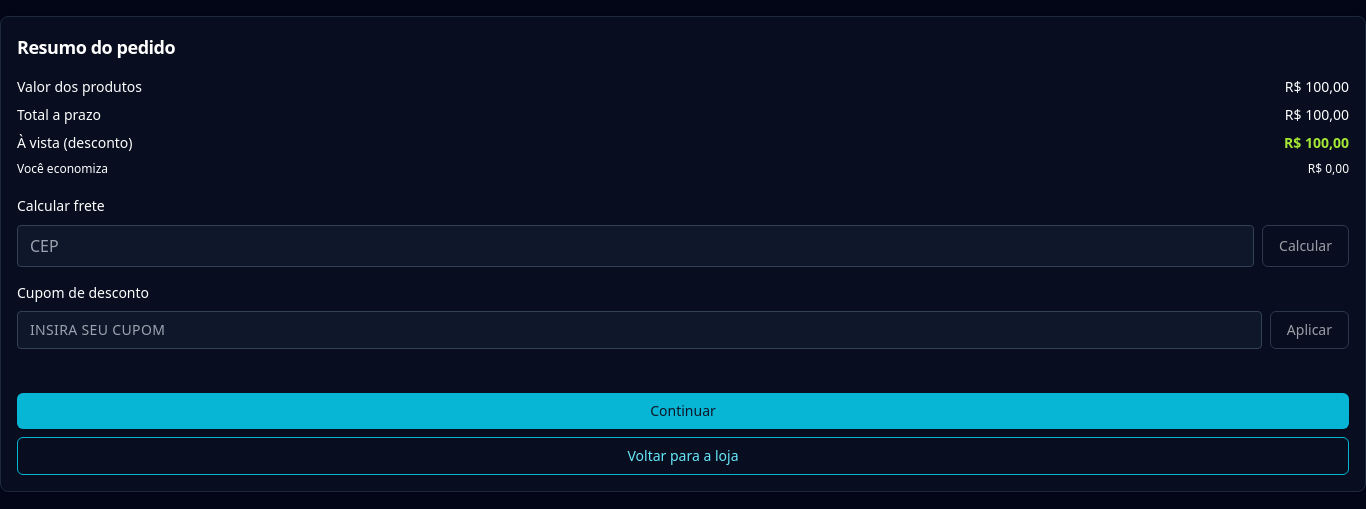
Test: CouponForm UI integration › shows error for invalid coupon
The width and height of the screenshot is (1366, 509).
Type "abc" into the field with placeholder "INSIRA SEU CUPOM" at [639, 330], box [17,311,1262,349]
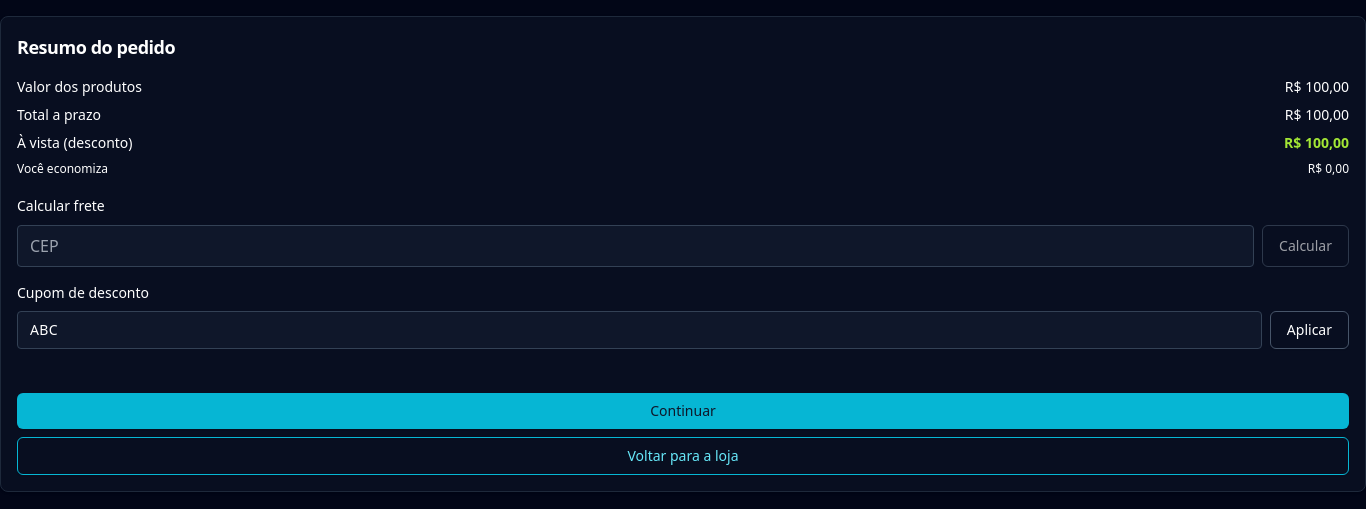
Click the button "Aplicar" at [1309, 330], box [1270,311,1349,349]
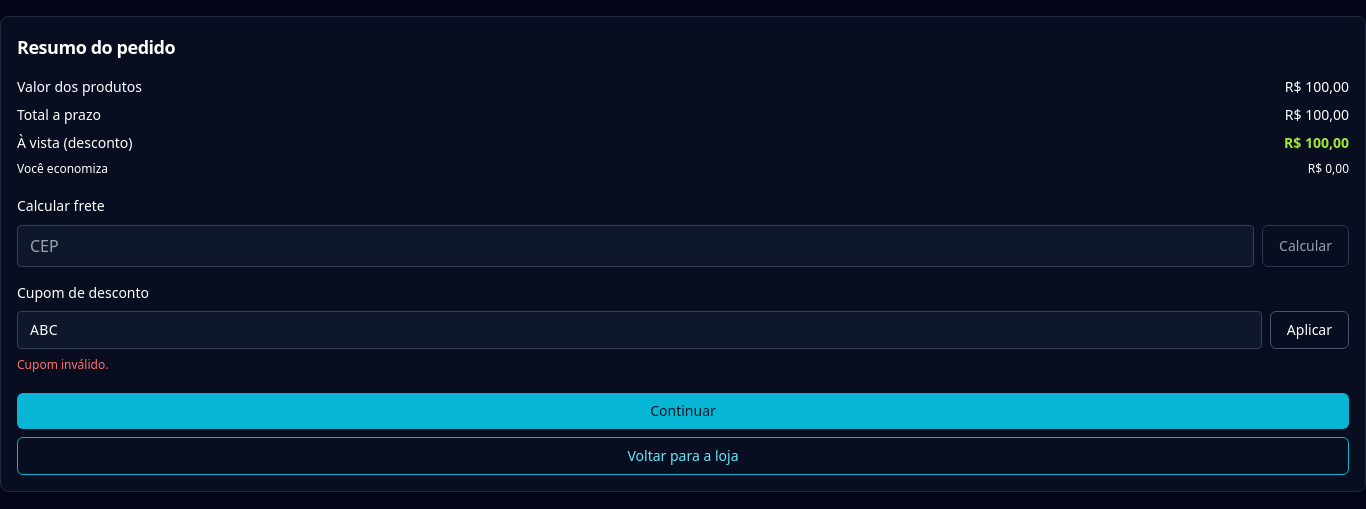
Now the text "Cupom inválido." is shown, box [17,356,108,373]
